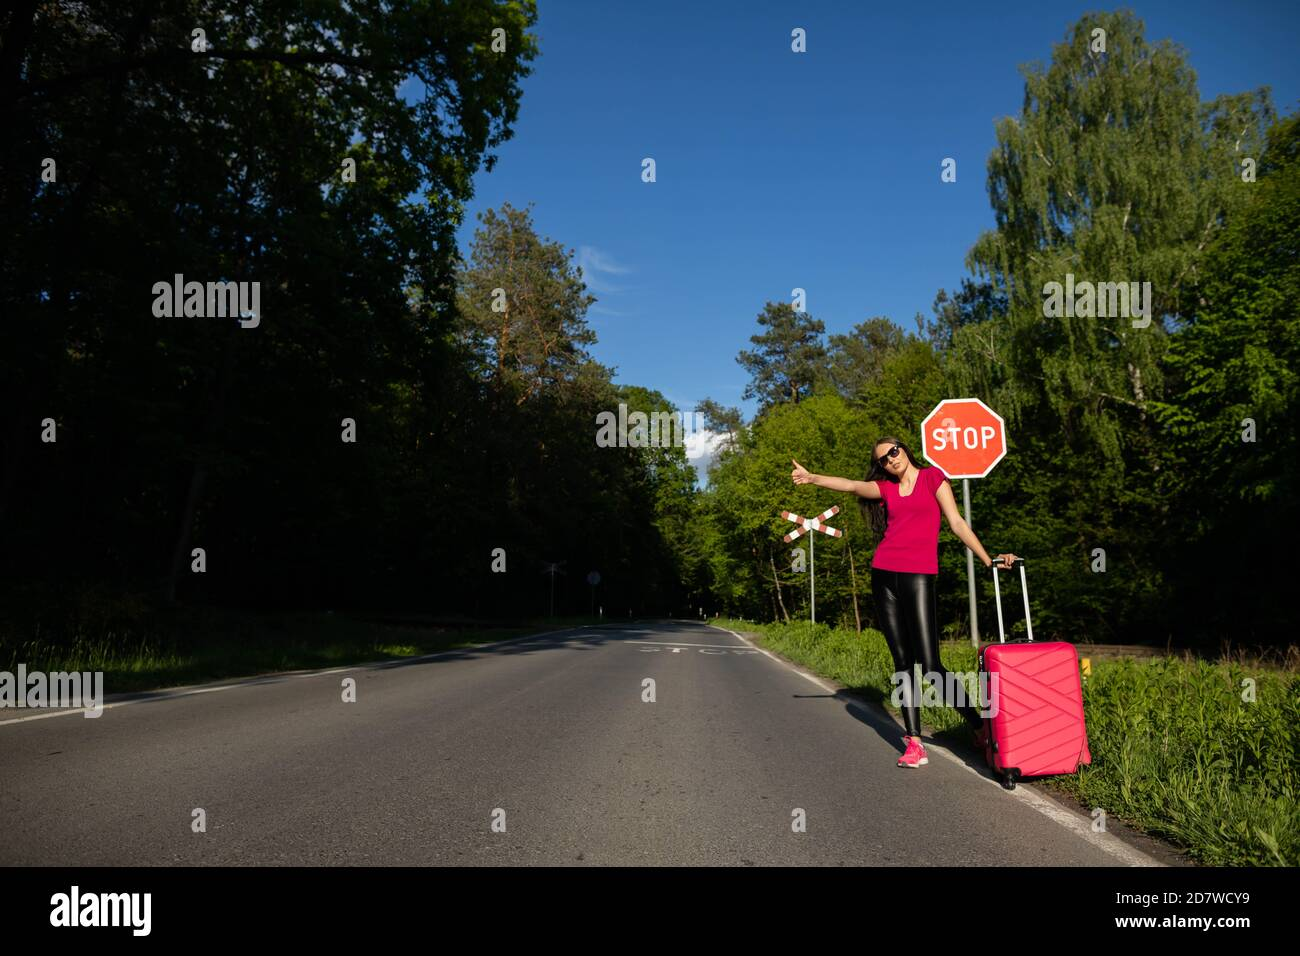thumbsUp: (777, 450, 816, 497)
